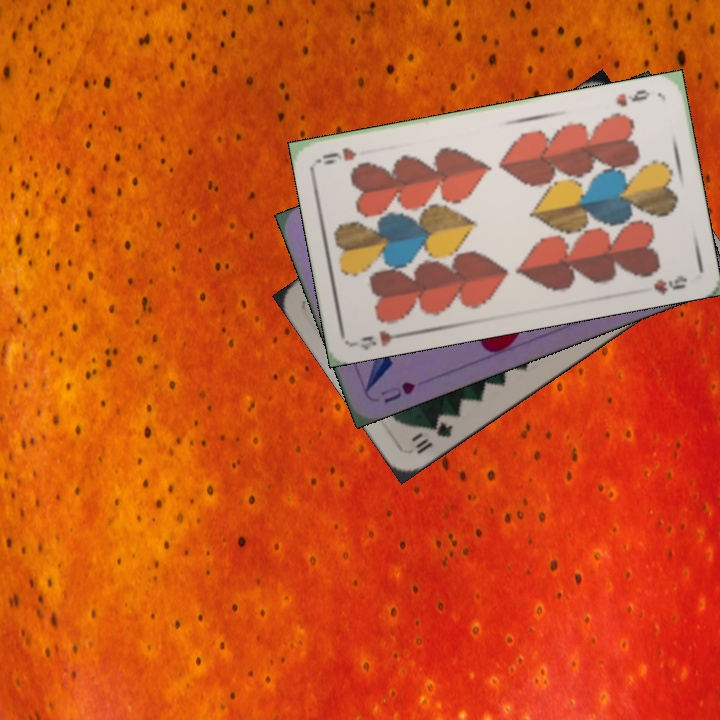G10: (411, 416, 456, 457)
H9: (356, 326, 409, 352), (612, 85, 653, 109)
HU: (376, 377, 418, 406)
